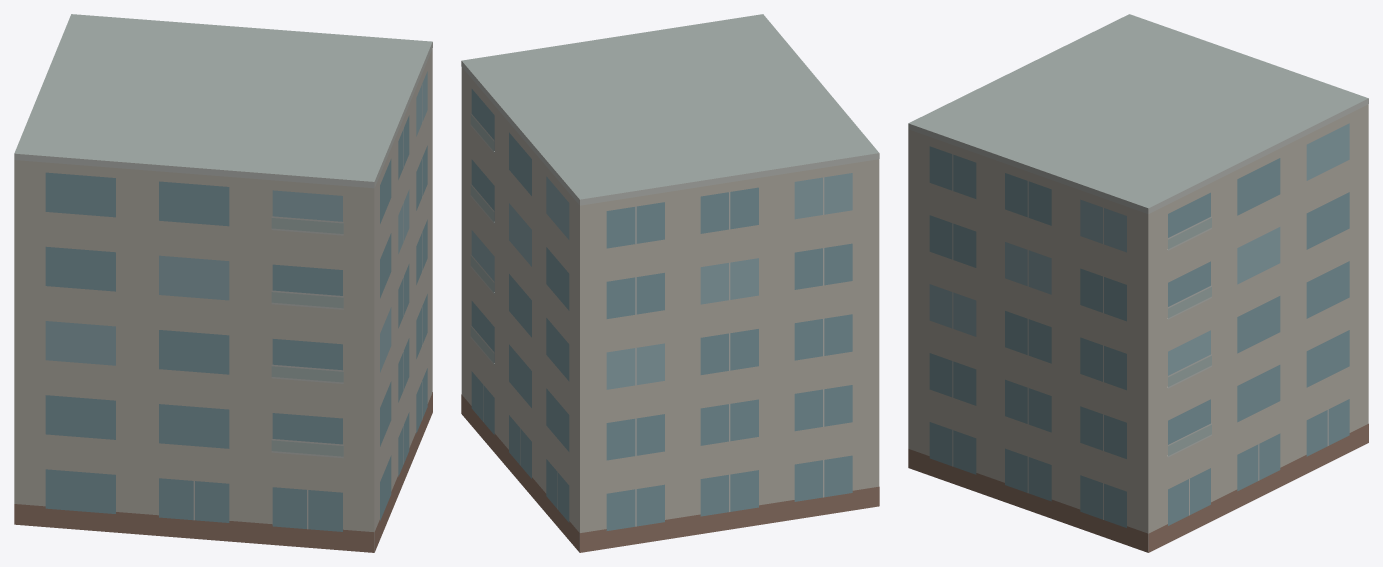
The model's file is survey-upis-32884786.glb.
3 renders of one model, left to right at view 1: azimuth 30°, elevation 25°; view 2: azimuth 150°, elevation 25°; view 3: azimuth 270°, elevation 25°, orthographic. The views are drawn at different scales.
Parts seen in each view (by area): view 1: survey-upis-32884786.tmp; view 2: survey-upis-32884786.tmp; view 3: survey-upis-32884786.tmp.
Boxes of the visible parts, left/top/right/bottom form: survey-upis-32884786.tmp: left=14, top=14, right=432, bottom=552; survey-upis-32884786.tmp: left=461, top=14, right=879, bottom=552; survey-upis-32884786.tmp: left=908, top=14, right=1368, bottom=552.
Size of the model in its own units: 17.18 by 14.2 by 17.21.
